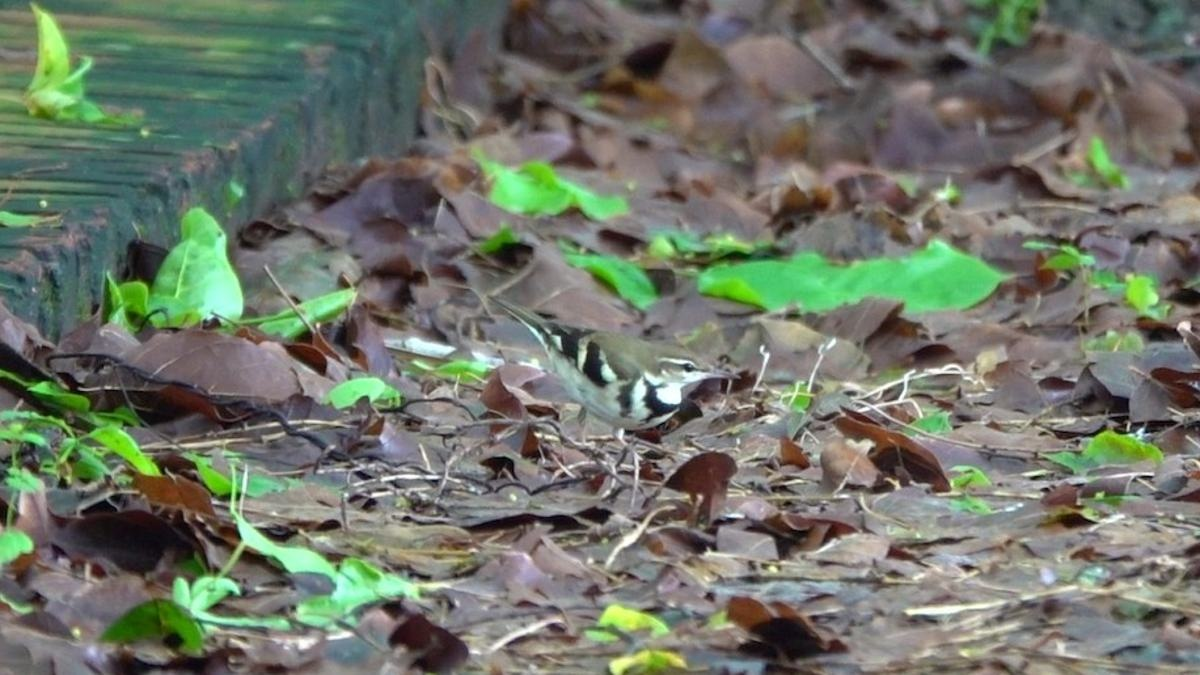wagtail: (505, 298, 728, 451)
